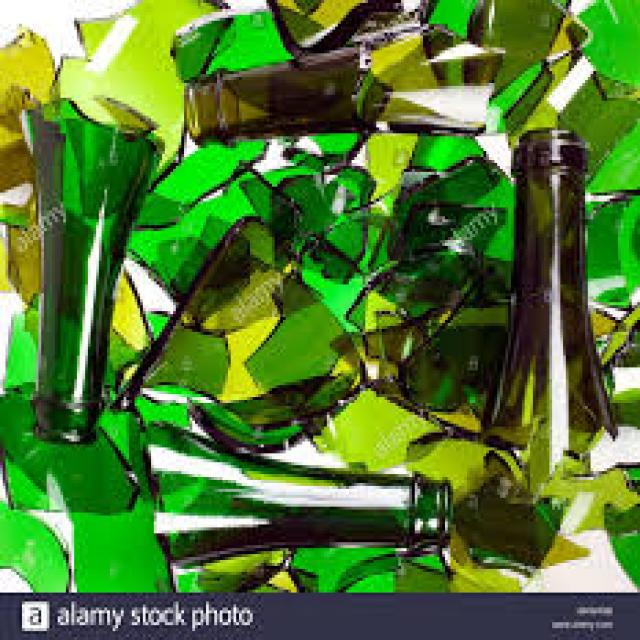glass: (110, 214, 362, 454), (11, 83, 157, 444), (294, 148, 508, 376), (135, 415, 445, 560), (181, 15, 503, 145), (481, 128, 610, 439), (11, 379, 170, 587), (3, 299, 157, 513), (47, 0, 231, 163), (346, 246, 514, 418), (401, 424, 580, 572), (0, 190, 143, 353), (124, 160, 289, 290), (332, 276, 478, 418), (0, 379, 137, 506), (231, 151, 371, 258), (135, 125, 278, 217), (448, 462, 563, 575), (129, 377, 286, 454), (366, 350, 506, 433), (464, 0, 569, 101), (550, 71, 638, 190), (492, 18, 582, 127), (168, 3, 289, 83), (266, 0, 431, 56), (0, 24, 55, 190), (580, 178, 637, 299), (280, 542, 440, 584), (0, 498, 66, 587), (544, 471, 629, 536), (574, 0, 637, 86), (173, 548, 286, 587), (602, 462, 637, 581), (442, 539, 522, 587), (363, 125, 415, 196), (401, 127, 481, 172), (533, 527, 599, 569), (602, 297, 637, 368), (605, 376, 638, 424), (514, 98, 549, 142), (591, 299, 618, 341)
